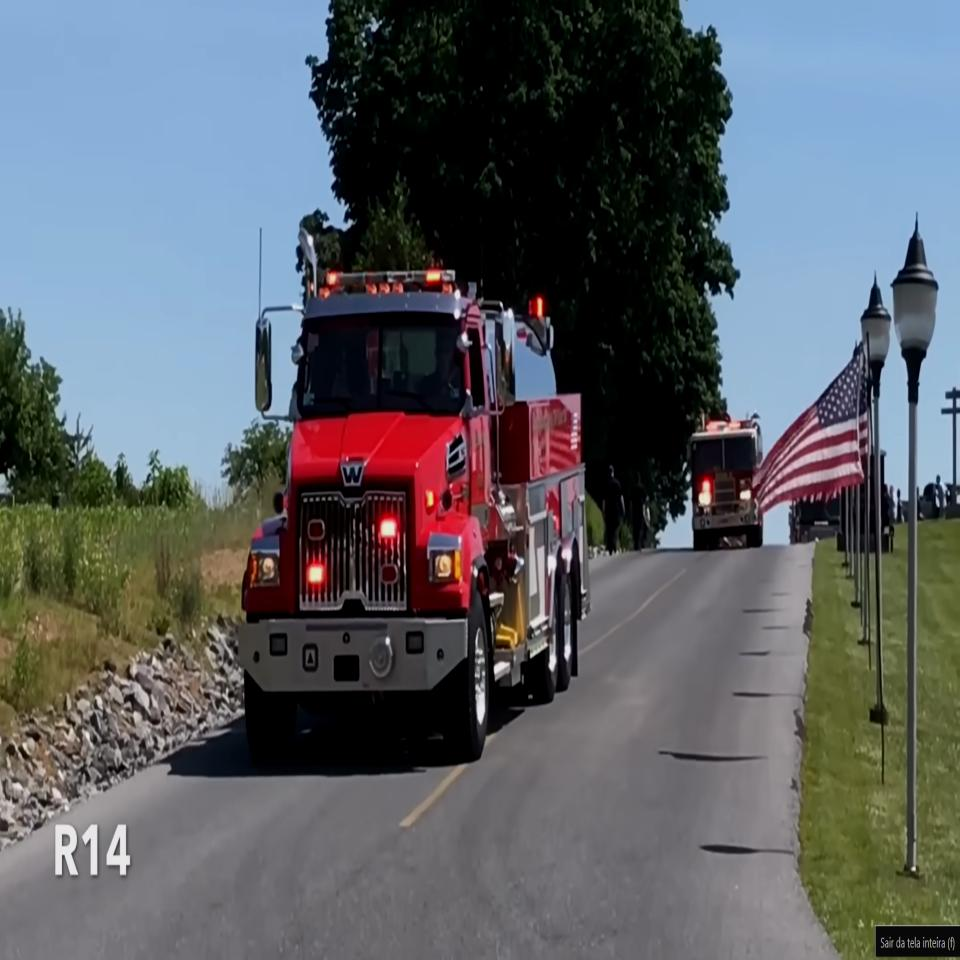bombeiro: (238, 218, 592, 761)
